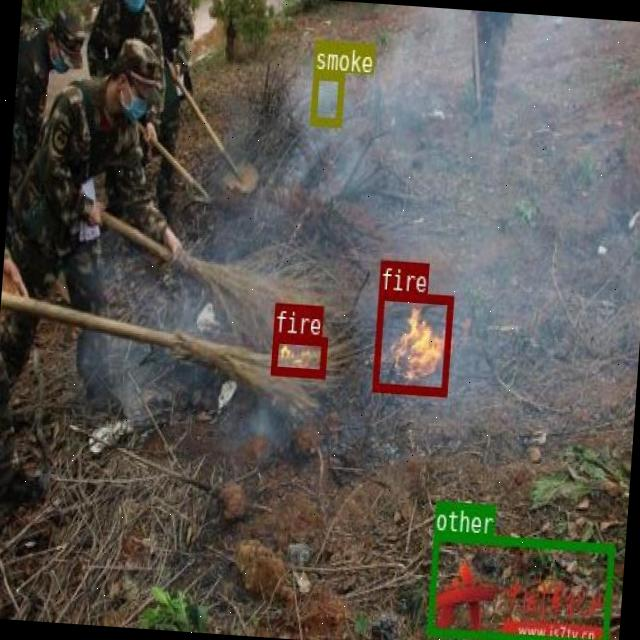fire: (370, 289, 452, 394), (269, 332, 326, 376)
smoke: (308, 69, 342, 125)
